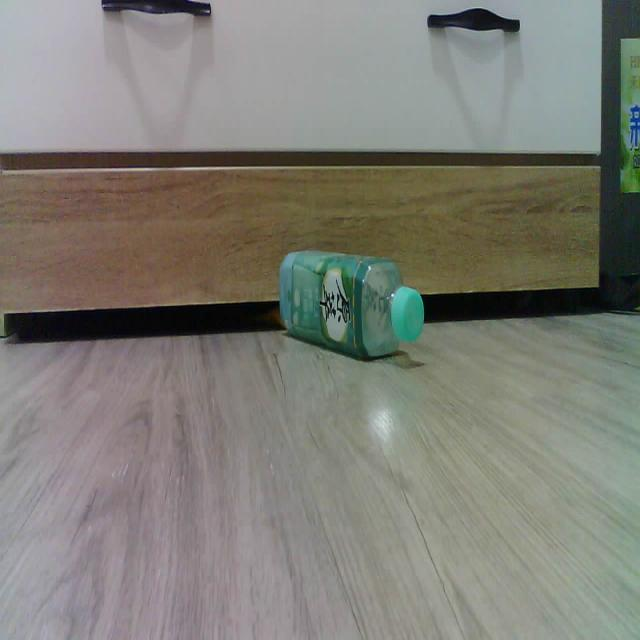bottle: (280, 251, 424, 357)
